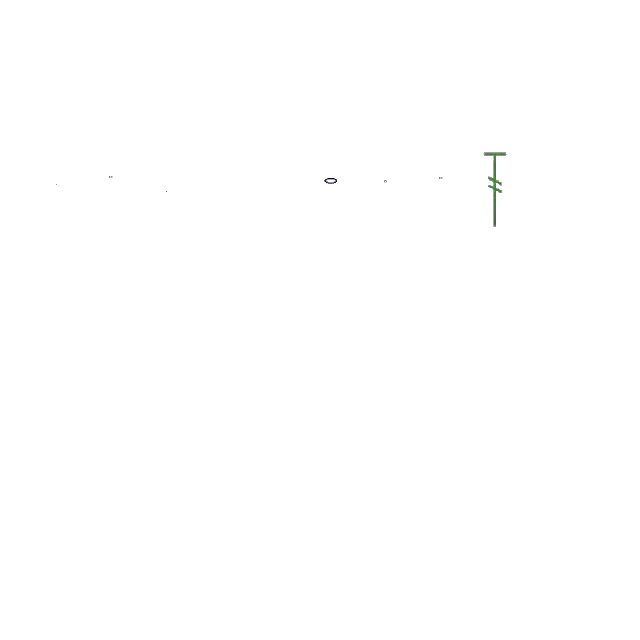chain: (323, 176, 339, 186), (384, 180, 388, 184), (109, 176, 113, 178), (439, 177, 443, 179), (55, 184, 57, 186), (164, 192, 168, 192)
fan: (482, 150, 510, 230)
